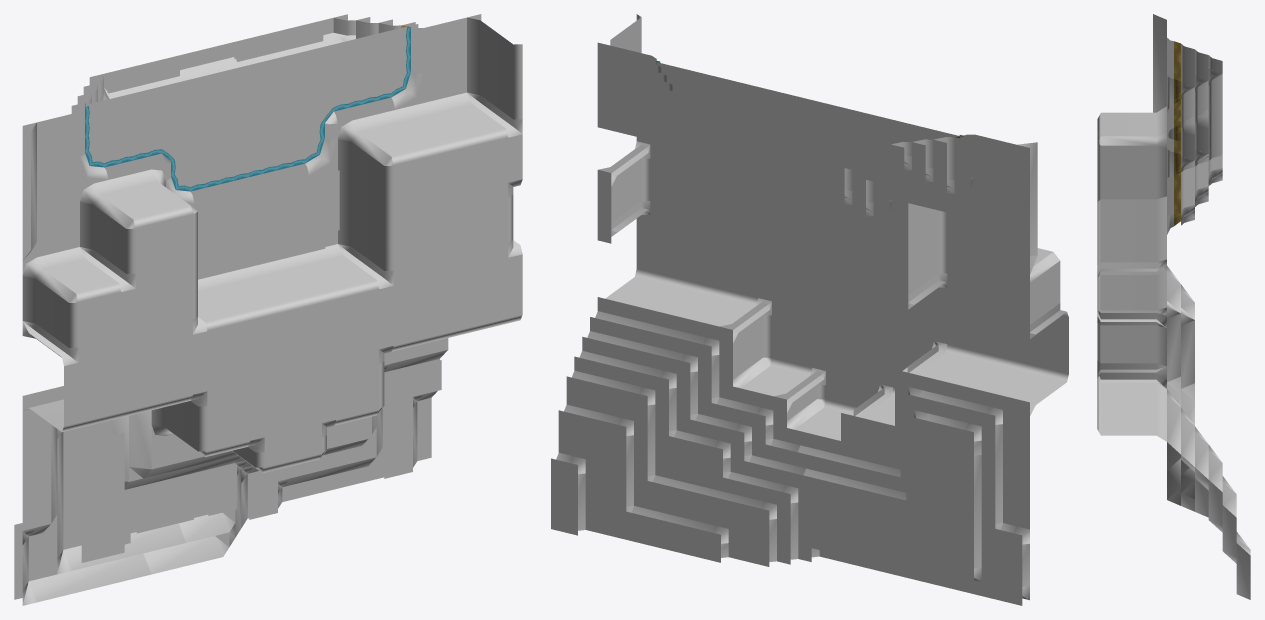
The model's file is Asteria_22_16.obj.
3 views of the same model, side by side, from view 1: azimuth 30°, elevation 25°; view 2: azimuth 150°, elevation 25°; view 3: azimuth 270°, elevation 25° (orthographic). The views are drawn at different scales.
Parts seen in each view (by area): view 1: map; view 2: map; view 3: map.
Part boxes in pixels (x1=…): map: x1=14, y1=14, x2=522, y2=605; map: x1=551, y1=14, x2=1068, y2=605; map: x1=1097, y1=14, x2=1250, y2=599.
Bounding box in the file's own units: 32 × 32 × 11.
